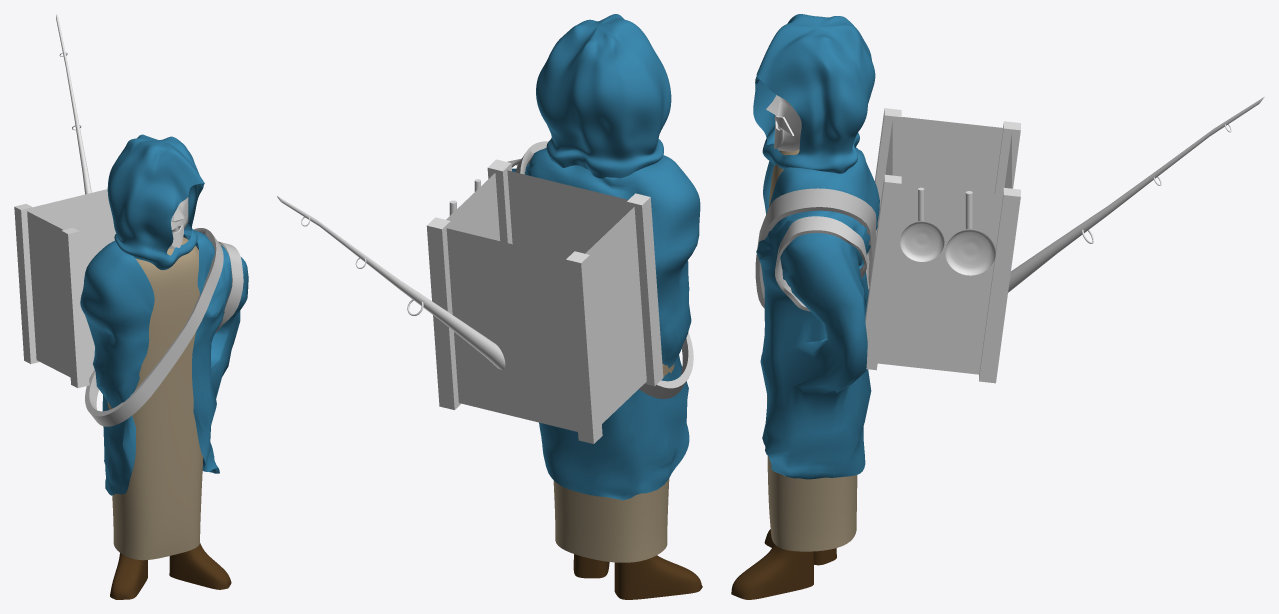
File: Merchant.fbx
3 views of the same model, side by side, from view 1: azimuth 30°, elevation 25°; view 2: azimuth 150°, elevation 25°; view 3: azimuth 270°, elevation 25° (orthographic). The views are drawn at different scales.
Visible parts, largest first — view 1: Torso, Cape, Cap, Basket, Belt_1, Foot, Cube_0, Cube_1, Belt_1_1, Cylinder, Head; view 2: Basket, Cape, Cap, Torso, Cube_1, Foot, Cube_3, Cube_0, Cylinder, Belt_1, Cube_2; view 3: Cape, Basket, Cap, Torso, Cube_3, Foot, Cube_2, Belt_1, Cylinder, Belt_1_1, Disc, Disc_2 (+3 smaller).
Boxes of the visible parts, x1,y1,x2,y2 form: Torso: (107,237,206,560); Cape: (80,229,248,495); Cap: (107,134,204,270); Basket: (27,189,116,377); Belt_1: (85,228,223,426); Foot: (110,543,231,599); Cube_0: (61,228,89,387); Cube_1: (14,204,39,363); Belt_1_1: (215,241,243,332); Cylinder: (56,14,91,194); Head: (169,197,188,248); Basket: (446,170,646,431); Cape: (512,147,700,500); Cap: (536,14,671,178); Torso: (553,363,674,562); Cube_1: (566,251,602,443); Foot: (573,554,702,599); Cube_3: (426,217,460,409); Cube_0: (626,193,663,386); Cylinder: (277,196,505,369); Belt_1: (515,141,693,398); Cube_2: (487,159,512,244); Cape: (756,147,879,479); Basket: (877,117,1011,374); Cap: (753,14,875,173); Torso: (767,149,857,551); Cube_3: (979,187,1020,383); Foot: (731,529,836,599); Cube_2: (865,174,901,370); Belt_1: (755,188,876,308); Cylinder: (1008,97,1264,292); Belt_1_1: (775,216,867,311); Disc: (945,229,995,275); Disc_2: (900,221,944,261).
Bounding box in the file's own units: 1398 × 3516 × 3090.
